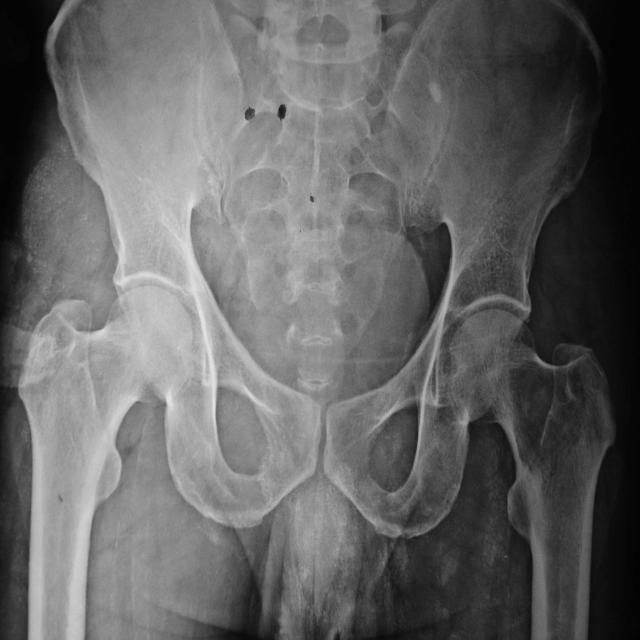normal-left: (448, 308, 617, 640)
normal-right: (19, 284, 194, 640)
